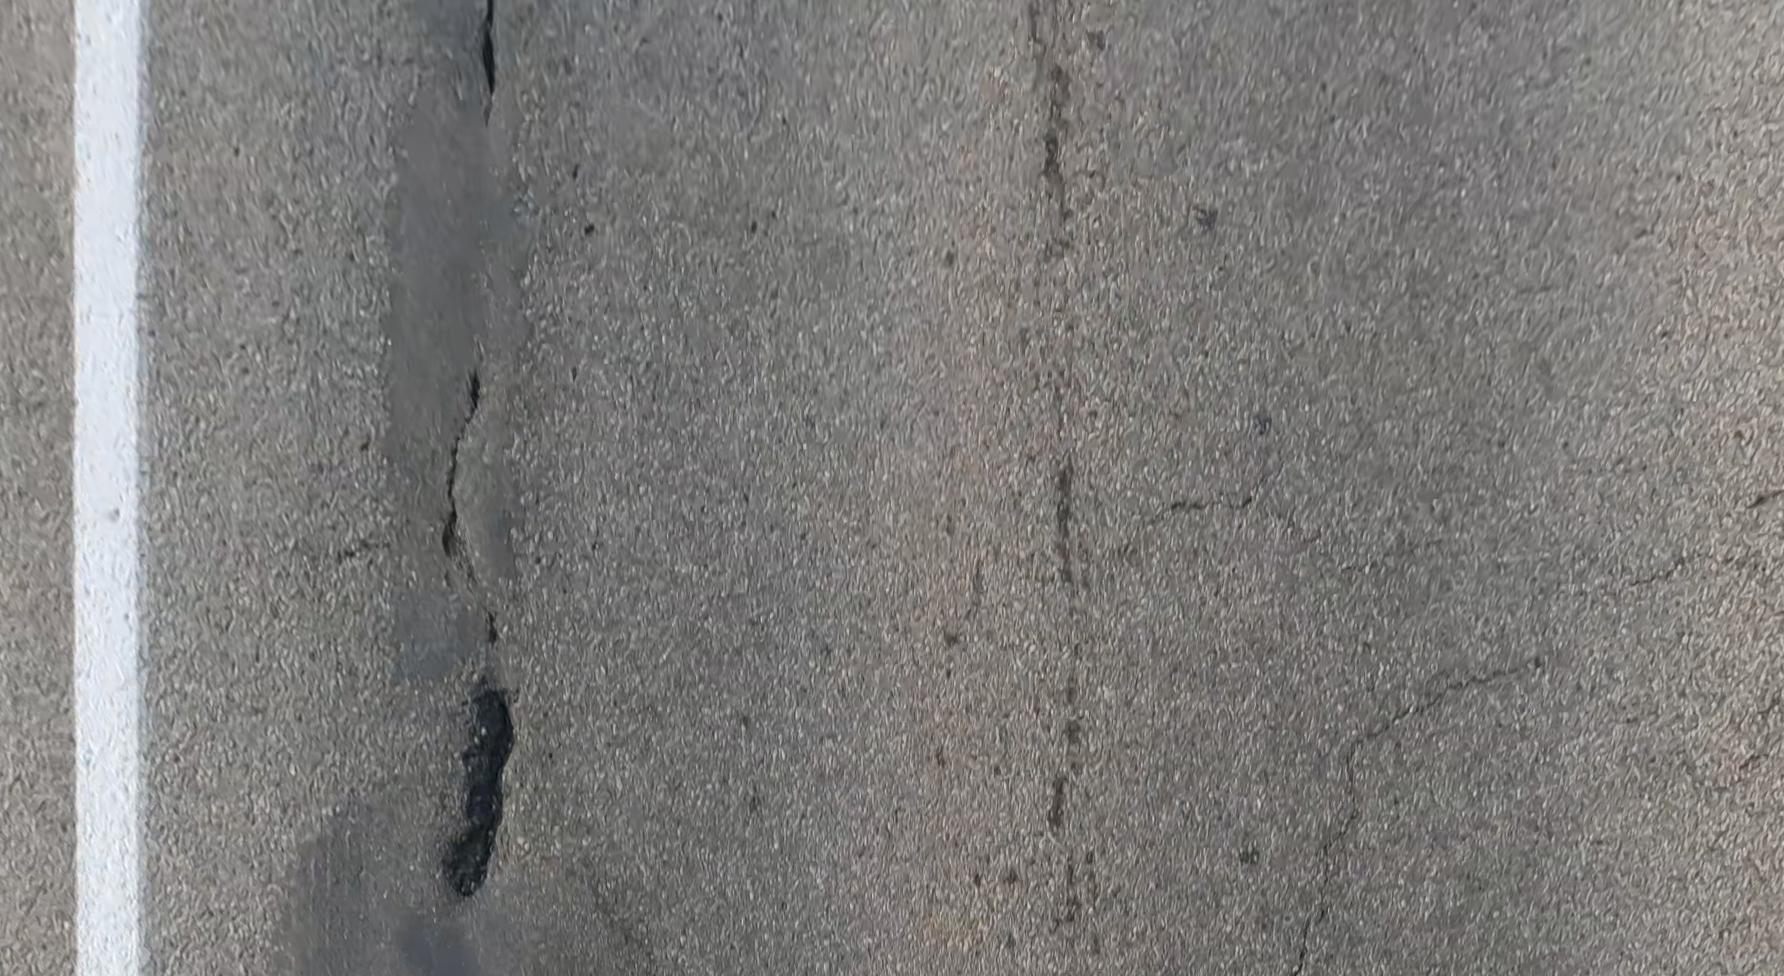pothole: (441, 689, 521, 900)
pothole_patch_good: (363, 123, 531, 349)
pothole_patch_poor: (369, 323, 529, 689)
